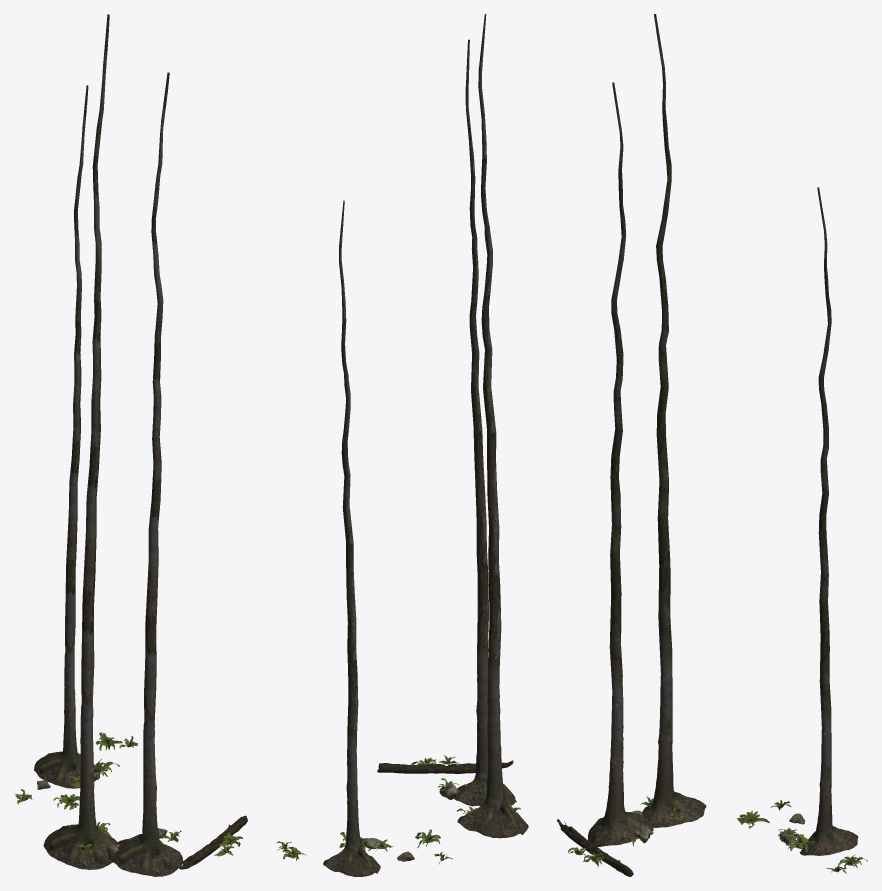
The picture shows the model from 3 angles, left to right: view 1: azimuth 30°, elevation 25°; view 2: azimuth 150°, elevation 25°; view 3: azimuth 270°, elevation 25°; orthographic projection. The views are drawn at different scales.
Visible parts, largest first — view 1: pine-trunk-3, pine-trunk-2, pine-trunk-1, fallen-dead-tree; view 2: pine-trunk-3, pine-trunk-2, pine-trunk-1, fallen-dead-tree; view 3: pine-trunk-3, pine-trunk-2, pine-trunk-1, fallen-dead-tree.
Part boxes in pixels (x1,y1,x2,y2): pine-trunk-3: [43, 14, 117, 869]; pine-trunk-2: [108, 72, 182, 876]; pine-trunk-1: [34, 85, 88, 788]; fallen-dead-tree: [178, 815, 247, 869]; pine-trunk-3: [457, 14, 528, 838]; pine-trunk-2: [454, 39, 516, 806]; pine-trunk-1: [323, 200, 380, 876]; fallen-dead-tree: [377, 760, 513, 773]; pine-trunk-3: [642, 14, 706, 827]; pine-trunk-2: [588, 82, 653, 846]; pine-trunk-1: [799, 187, 858, 855]; fallen-dead-tree: [557, 818, 633, 876].
Bounding box in the file's own units: 3.72 × 17.19 × 5.93.
4 materials, 4 textured.
